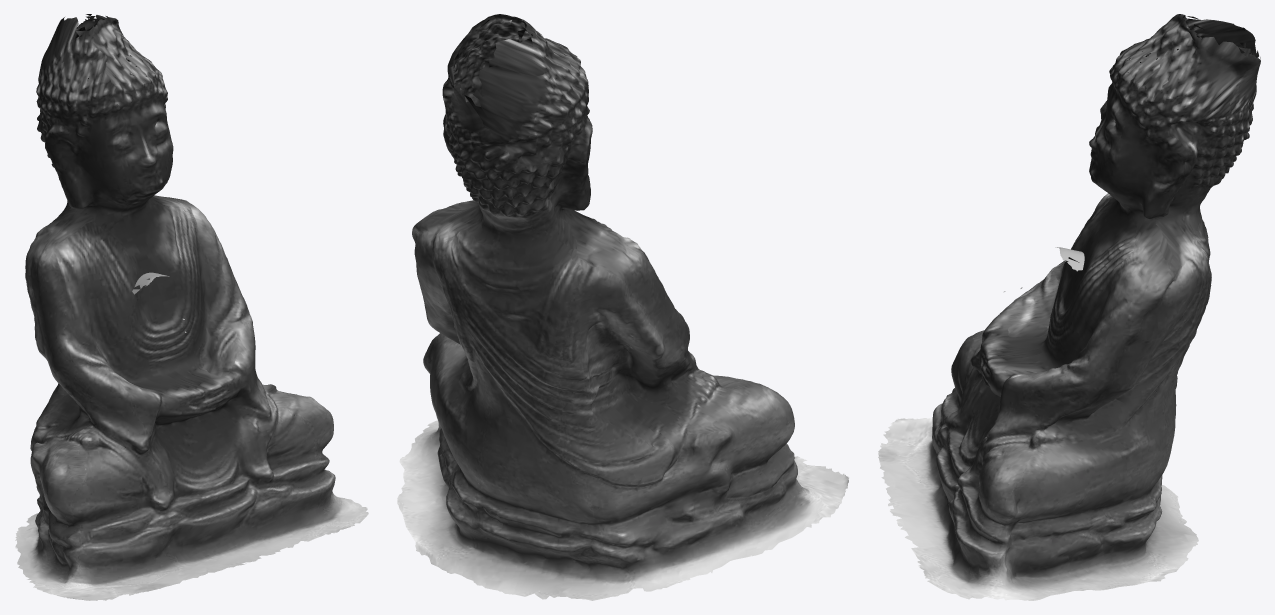
The model's file is buddha-b.draco.glb.
The picture shows the model from 3 angles, left to right: view 1: azimuth 30°, elevation 25°; view 2: azimuth 150°, elevation 25°; view 3: azimuth 270°, elevation 25°; orthographic projection. The views are drawn at different scales.
Visible parts, largest first — view 1: Object_2; view 2: Object_2; view 3: Object_2.
Part boxes in pixels (<box>): Object_2: <box>15,14,368,600</box>; Object_2: <box>397,14,848,600</box>; Object_2: <box>878,14,1260,600</box>.
Bounding box in the file's own units: 122265 × 167416 × 111188.
Materials: 2 (1 with a texture image).
